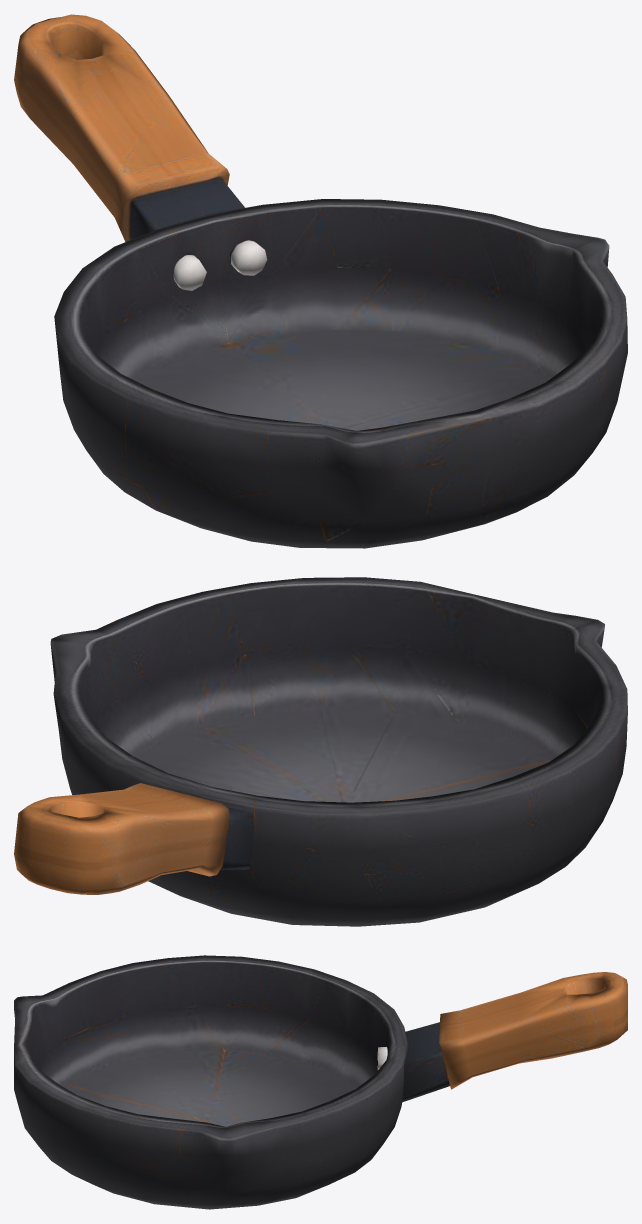
File: frying_pan.glb
3 views of the same model, one above another, from view 1: azimuth 30°, elevation 25°; view 2: azimuth 150°, elevation 25°; view 3: azimuth 270°, elevation 25° (orthographic). The views are drawn at different scales.
Bounding box in the file's own units: 0.707 × 0.293 × 1.
Materials: 1 (1 with a texture image).
